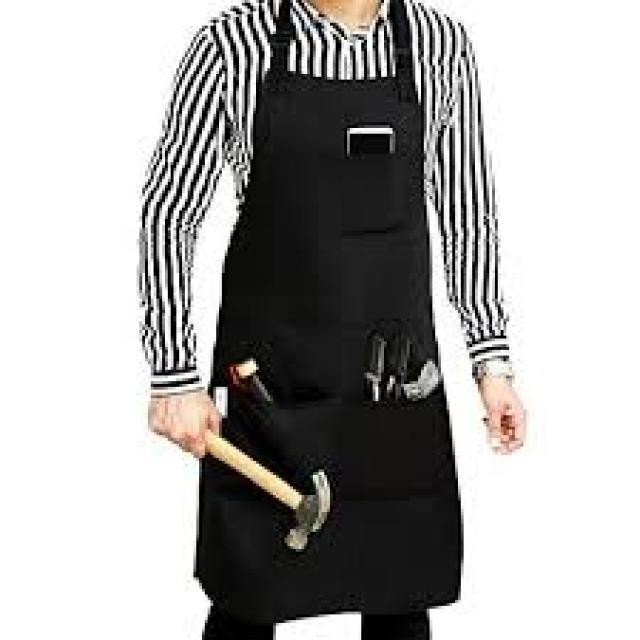hammer: (194, 424, 336, 564)
